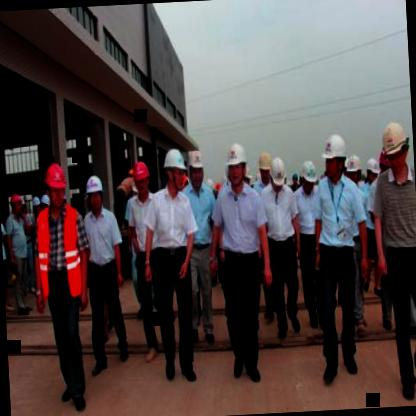helmet: (381, 116, 410, 177), (42, 158, 70, 208), (322, 132, 348, 180), (225, 138, 249, 188), (161, 147, 187, 192), (83, 172, 107, 213), (268, 156, 289, 198), (132, 156, 152, 198), (299, 158, 321, 195), (343, 154, 364, 190), (188, 150, 207, 188), (256, 148, 273, 186), (364, 154, 380, 190), (9, 190, 24, 216), (0, 199, 4, 224)
